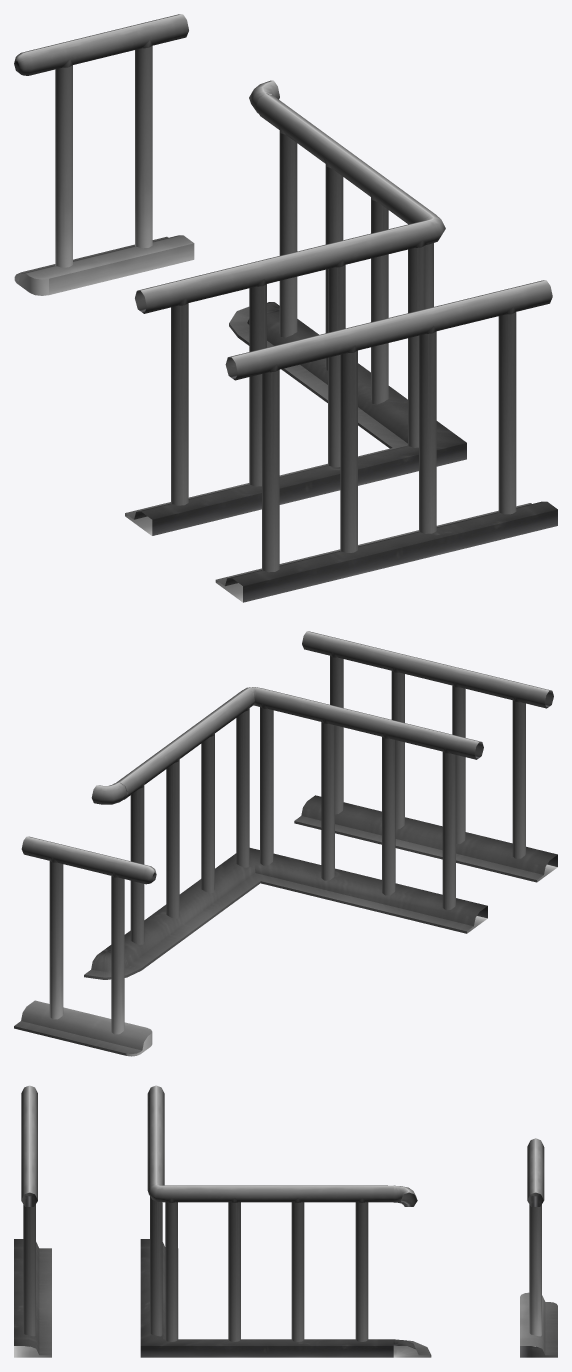
Rendered from RailingAtlas.glb.
3 views of the same model, one above another, from view 1: azimuth 30°, elevation 25°; view 2: azimuth 150°, elevation 25°; view 3: azimuth 270°, elevation 25° (orthographic). The views are drawn at different scales.
Parts seen in each view (by area): view 1: RailingOuterCorner, RailingForward, RailingEndLeft, RailingInnerCorner; view 2: RailingOuterCorner, RailingForward, RailingEndLeft, RailingInnerCorner; view 3: RailingOuterCorner, RailingForward, RailingEndLeft, RailingInnerCorner.
Part boxes in pixels (x1,y1,x2,y2): RailingOuterCorner: [125, 94, 466, 535]; RailingForward: [215, 280, 557, 602]; RailingEndLeft: [14, 14, 194, 295]; RailingInnerCorner: [229, 80, 279, 337]; RailingOuterCorner: [105, 687, 487, 970]; RailingForward: [294, 631, 557, 882]; RailingEndLeft: [14, 836, 156, 1056]; RailingInnerCorner: [84, 782, 141, 979]; RailingOuterCorner: [140, 1085, 393, 1357]; RailingForward: [14, 1085, 51, 1357]; RailingEndLeft: [520, 1138, 557, 1357]; RailingInnerCorner: [393, 1185, 431, 1357].
Size of the model in its own units: 2 by 1.44 by 4.3.
1 material, 1 textured.
